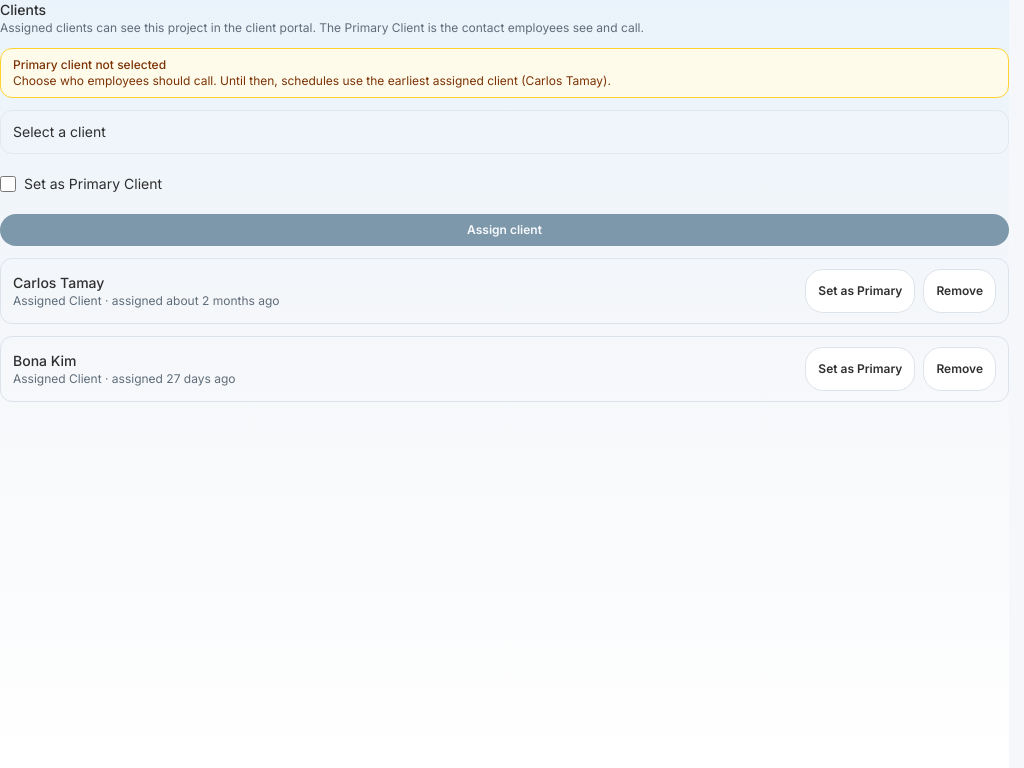
Test: ProjectClientsSection › E2: Cancel in the confirmation changes nothing
The width and height of the screenshot is (1024, 768).
Click the button "Set as Primary" in the row of "27 days ago".
click(860, 369)  # box [805, 347, 915, 391]
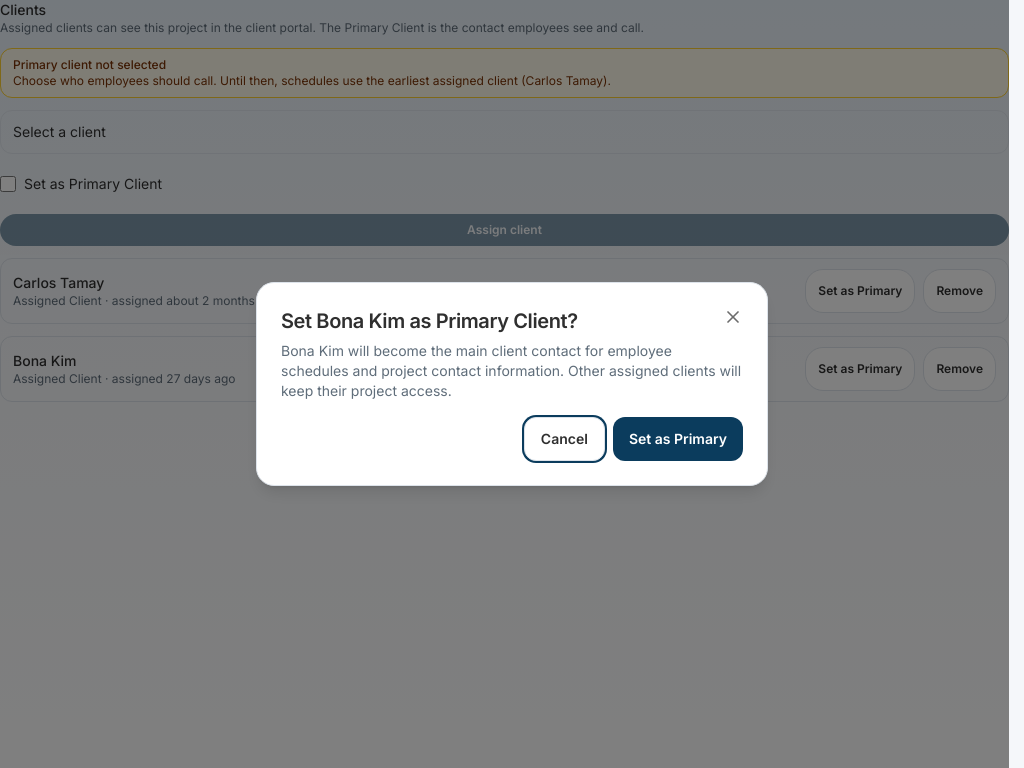
Click the button "Cancel".
click(564, 439)  # box [524, 417, 605, 461]
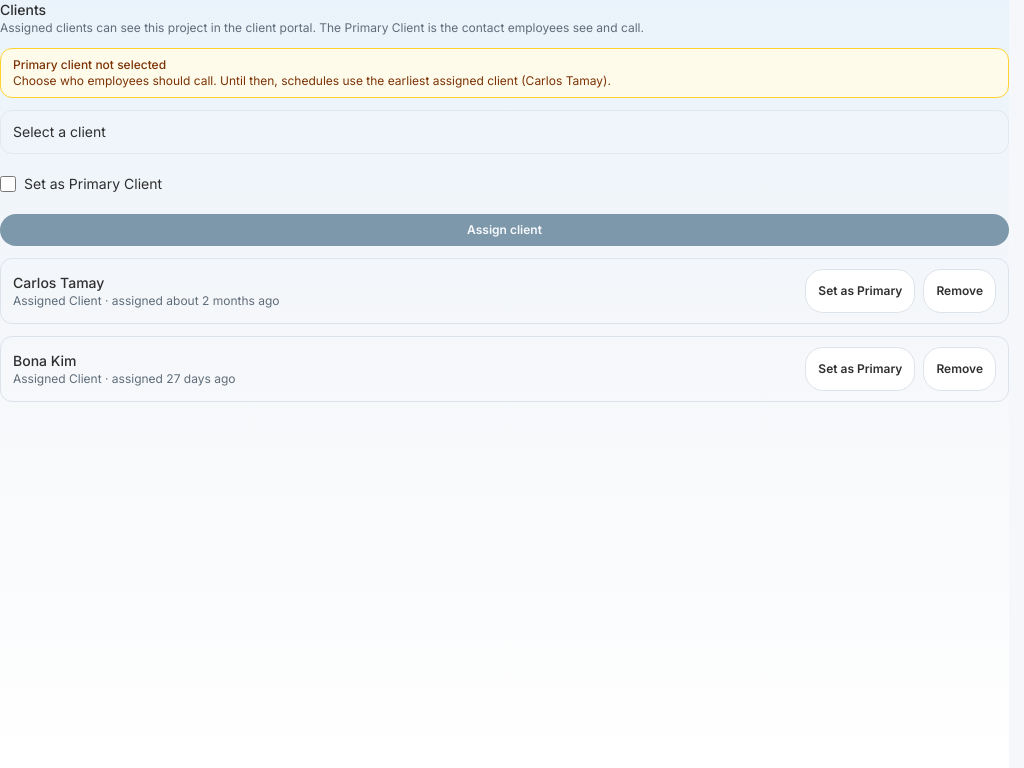
Now the dialog is gone
